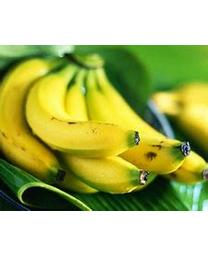banana: (0, 51, 189, 195)
